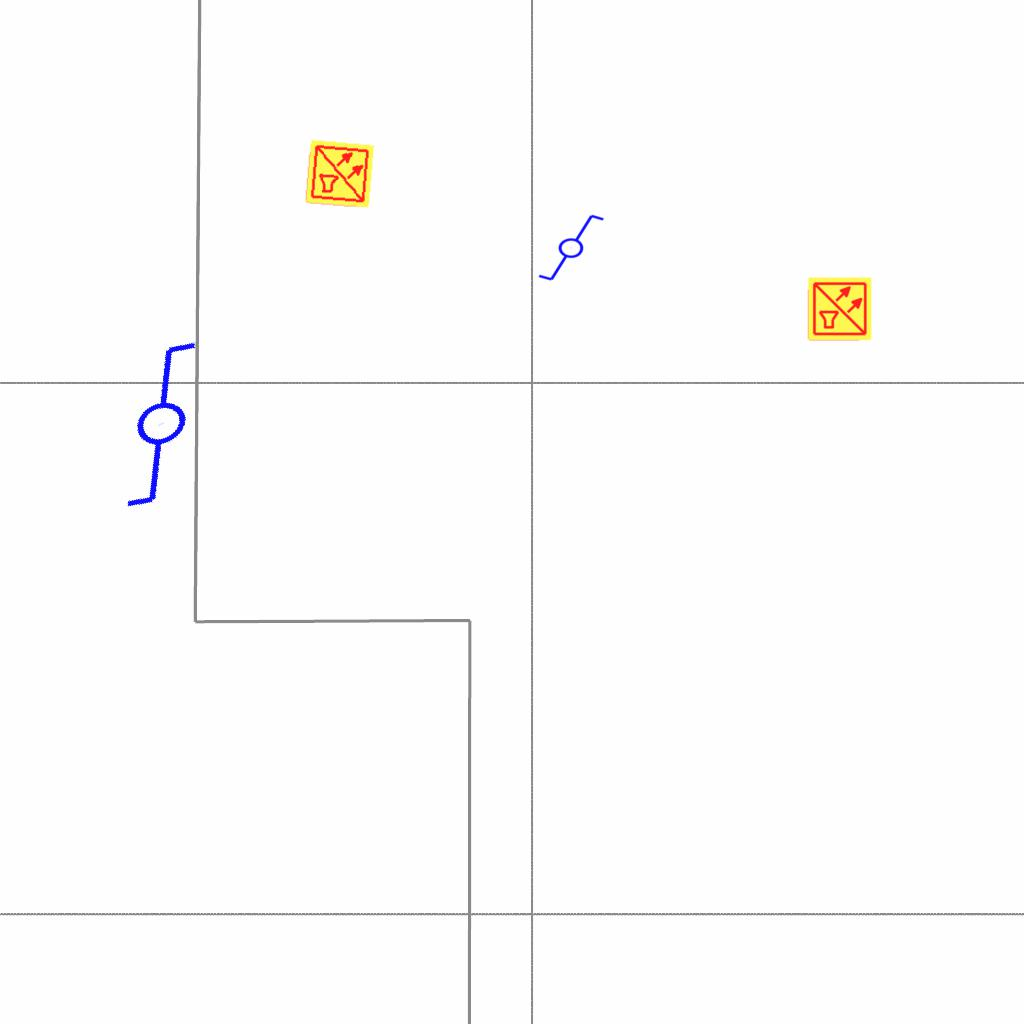OKW_Multisensormelder_(Kombination_optischer_Rauch-Kahlenmonoxid_Waerme-Melder): (304, 138, 376, 210), (807, 276, 873, 342)
Wechselschalter: (67, 322, 272, 522), (528, 211, 606, 283)
